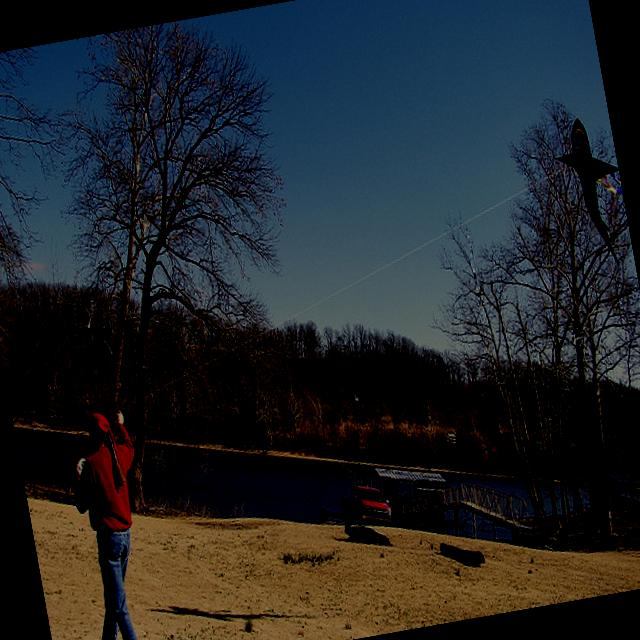Vehicle: (337, 478, 394, 534)
